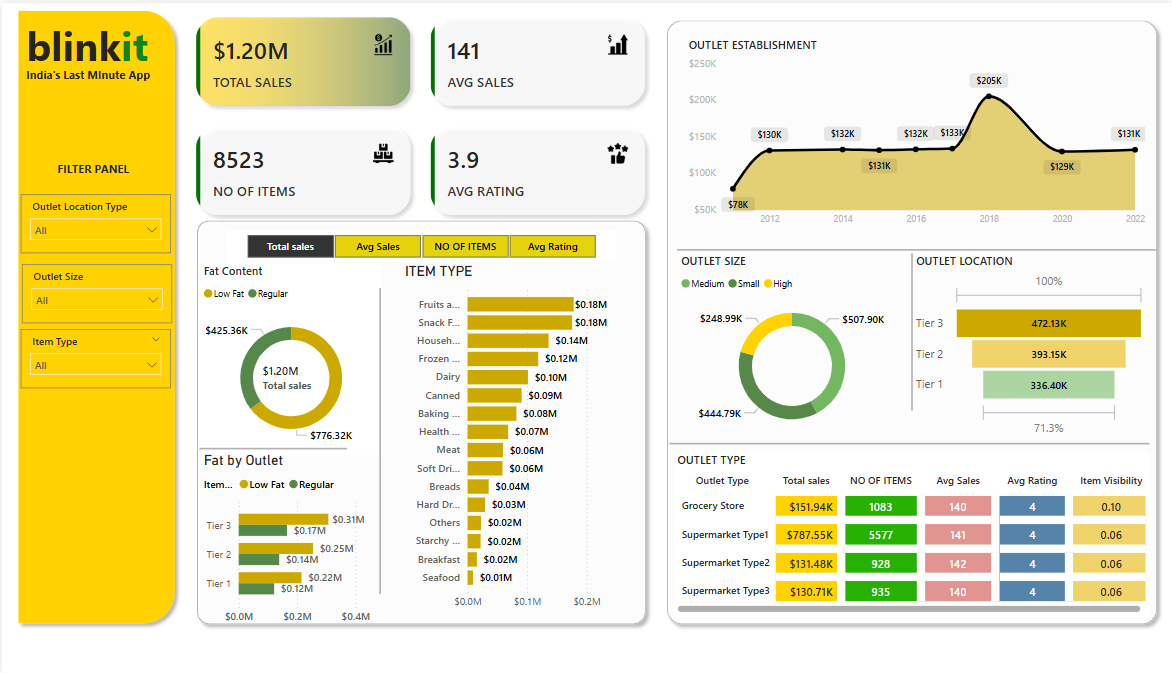

What the dashboard file says about the page in this screenshot:
{"tool":"powerbi","page":{"name":"Page 1","canvas":[1400,800],"ordinal":0},"visuals":[{"type":"shape","box":[10,0,205,750],"z":0},{"type":"textbox","box":[24,12,177.1,84],"z":1000},{"type":"textbox","box":[24,72,192.1,39],"z":2000},{"type":"cardVisual","fields":{"Data":["BlinkIT Grocery Data (2).Total sales","BlinkIT Grocery Data (2).Avg Sales","BlinkIT Grocery Data (2).NO OF ITEMS","BlinkIT Grocery Data (2).Avg Rating"]},"box":[214.9,0,570.1,270.1],"z":3000},{"type":"shape","box":[223.9,250.7,553.7,500],"z":3001},{"type":"donutChart","title":"Fat Content","fields":{"Category":["BlinkIT Grocery Data (2).Item Fat Content"],"Y":["BlinkIT Grocery Data (2).Total sales"]},"box":[235.8,310.4,219.4,229.9],"z":3002},{"type":"slicer","fields":{"Values":["Matrics.Matrics"]},"box":[267.2,270.1,465.7,40.3],"z":3003},{"type":"cardVisual","fields":{"Data":["BlinkIT Grocery Data (2).Total sales"]},"box":[294,413.4,103,56.7],"z":3004},{"type":"clusteredBarChart","title":"Fat by Outlet","fields":{"Y":["BlinkIT Grocery Data (2).Total sales"],"Category":["BlinkIT Grocery Data (2).Outlet Location Type"],"Series":["BlinkIT Grocery Data (2).Item Fat Content"]},"box":[235.8,535.8,219.4,214.9],"z":3005},{"type":"shape","box":[235.8,523.9,176.1,16.4],"z":3006},{"type":"shape","box":[447.8,340.3,7.5,365.7],"z":3007},{"type":"barChart","title":"ITEM TYPE","fields":{"Category":["BlinkIT Grocery Data (2).Item Type"],"Y":["BlinkIT Grocery Data (2).Total sales"]},"box":[476.1,310.4,268.7,422.4],"z":3008},{"type":"shape","box":[785.1,11.9,603,738.8],"z":3009},{"type":"lineChart","title":"OUTLET ESTABLISHMENT","fields":{"Category":["BlinkIT Grocery Data (2).Outlet Establishment Year"],"Y":["BlinkIT Grocery Data (2).Total sales"]},"box":[814.9,40.3,555.2,234.3],"z":3010},{"type":"shape","box":[806,291,573.1,7.5],"z":3011},{"type":"donutChart","title":"OUTLET SIZE","fields":{"Y":["BlinkIT Grocery Data (2).Total sales"],"Category":["BlinkIT Grocery Data (2).Outlet Size"]},"box":[806,298.5,275,225],"z":3012},{"type":"shape","box":[1080.6,298.5,11.9,188.1],"z":3013},{"type":"funnel","title":"OUTLET LOCATION","fields":{"Category":["BlinkIT Grocery Data (2).Outlet Location Type"],"Y":["Sum(BlinkIT Grocery Data (2).Sales)"]},"box":[1086.6,298.5,283.6,223.9],"z":3014},{"type":"shape","box":[797,522.4,573.1,7.5],"z":3015},{"type":"pivotTable","title":"OUTLET TYPE","fields":{"Rows":["BlinkIT Grocery Data (2).Outlet Type"],"Values":["BlinkIT Grocery Data (2).Total sales","BlinkIT Grocery Data (2).NO OF ITEMS","BlinkIT Grocery Data (2).Avg Sales","BlinkIT Grocery Data (2).Avg Rating","Avg(BlinkIT Grocery Data (2).Item Visibility)"]},"box":[801.5,535.8,568.7,197],"z":3016},{"type":"slicer","fields":{"Values":["BlinkIT Grocery Data (2).Outlet Location Type"]},"box":[22.4,228.4,179.1,70.1],"z":3017},{"type":"slicer","fields":{"Values":["BlinkIT Grocery Data (2).Outlet Size"]},"box":[23.9,311.9,179.1,70.1],"z":3018},{"type":"slicer","fields":{"Values":["BlinkIT Grocery Data (2).Item Type"]},"box":[22.4,389.6,179.1,70.1],"z":3019},{"type":"textbox","box":[61.2,183.6,103,34.3],"z":3020}]}

Visuals, with their boxes in screenshot pixels (x1, y1, x2, y2), scaled from the page's 1400x800 canvas onto the 1172x673 screenshot:
shape: (8, 0, 180, 631)
textbox: (20, 10, 168, 81)
textbox: (20, 61, 181, 93)
cardVisual - BlinkIT Grocery Data (2).Total sales x BlinkIT Grocery Data (2).Avg Sales: (180, 0, 657, 227)
shape: (187, 211, 651, 632)
"Fat Content" donutChart: (197, 261, 381, 455)
slicer - Matrics.Matrics: (224, 227, 614, 261)
cardVisual - BlinkIT Grocery Data (2).Total sales: (246, 348, 332, 395)
"Fat by Outlet" clusteredBarChart: (197, 451, 381, 632)
shape: (197, 441, 345, 455)
shape: (375, 286, 381, 594)
"ITEM TYPE" barChart: (399, 261, 624, 616)
shape: (657, 10, 1162, 632)
"OUTLET ESTABLISHMENT" lineChart: (682, 34, 1147, 231)
shape: (675, 245, 1155, 251)
"OUTLET SIZE" donutChart: (675, 251, 905, 440)
shape: (905, 251, 915, 409)
"OUTLET LOCATION" funnel: (910, 251, 1147, 439)
shape: (667, 439, 1147, 446)
"OUTLET TYPE" pivotTable: (671, 451, 1147, 616)
slicer - BlinkIT Grocery Data (2).Outlet Location Type: (19, 192, 169, 251)
slicer - BlinkIT Grocery Data (2).Outlet Size: (20, 262, 170, 321)
slicer - BlinkIT Grocery Data (2).Item Type: (19, 328, 169, 387)
textbox: (51, 154, 137, 183)
